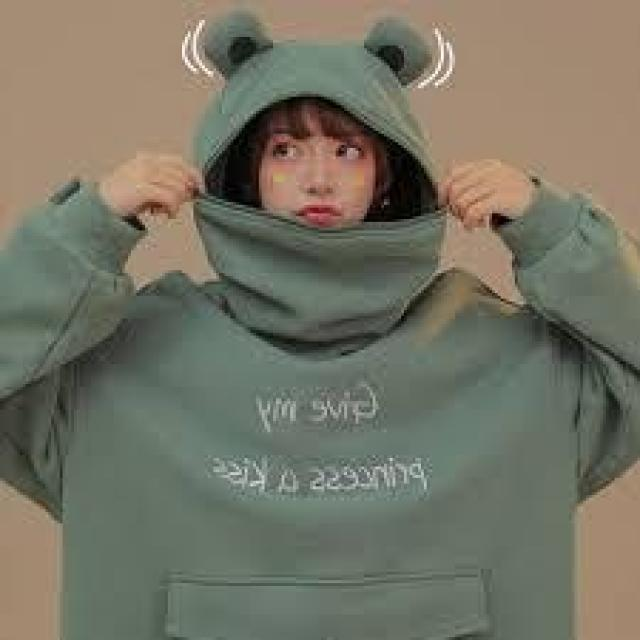sweater: (3, 14, 640, 629)
